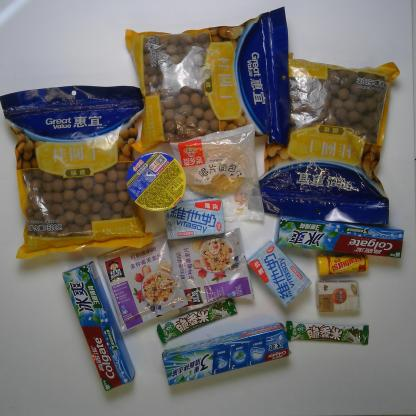Candy: (317, 248, 368, 275)
Chocolate: (154, 298, 237, 343), (285, 316, 370, 342)
Dessert: (166, 124, 264, 224)
Dried Food: (0, 85, 151, 259), (126, 5, 288, 152), (249, 53, 387, 225)
Instant Drink: (98, 236, 189, 330), (163, 228, 252, 310)
Instant Noodles: (128, 153, 188, 209)
Milk: (246, 239, 310, 308), (163, 199, 226, 241)
Personal Hygiene: (60, 260, 135, 394), (160, 324, 288, 384), (275, 216, 406, 260)
Tissue: (319, 282, 360, 314)
